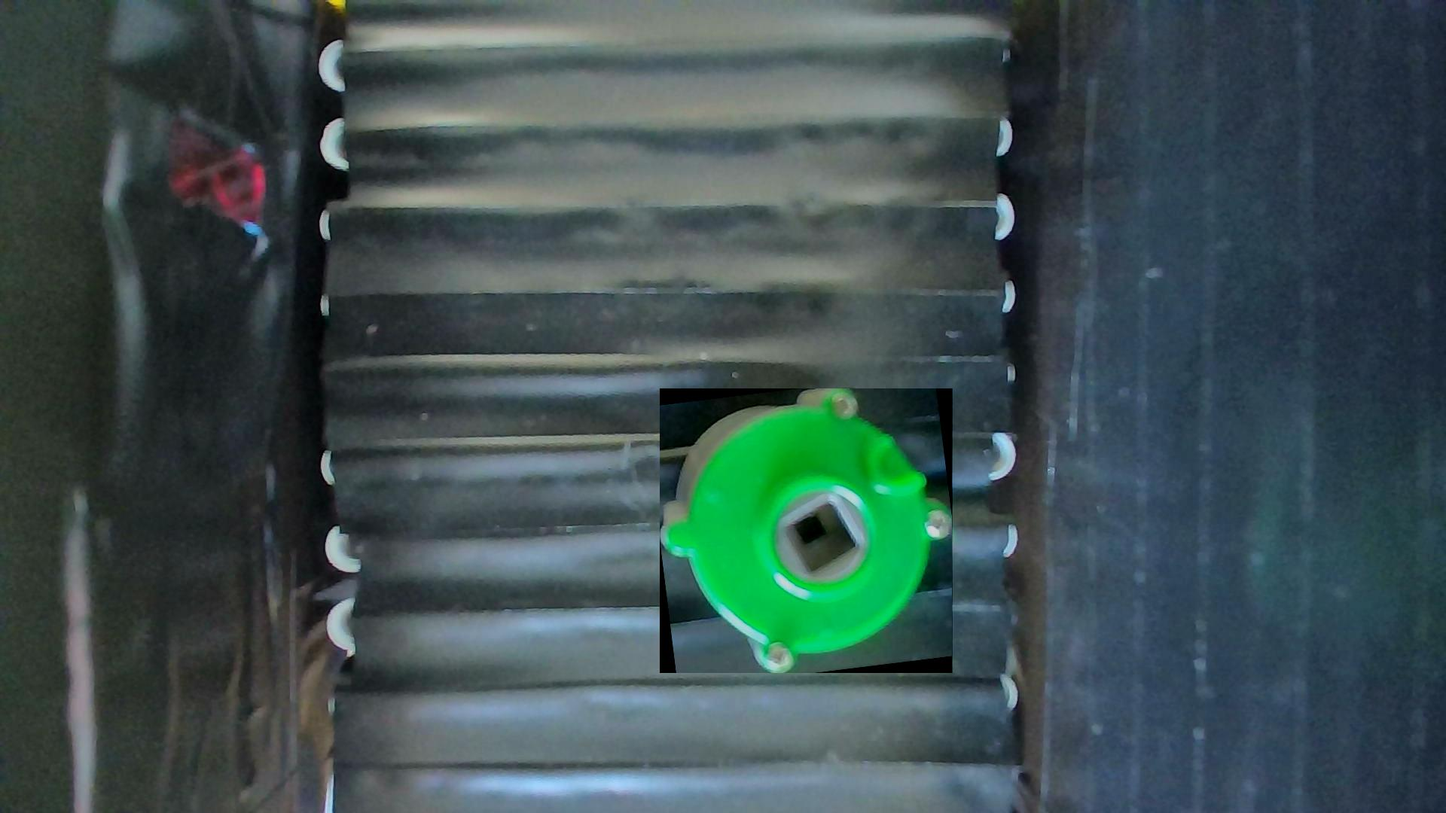cartridge: (660, 388, 953, 673)
